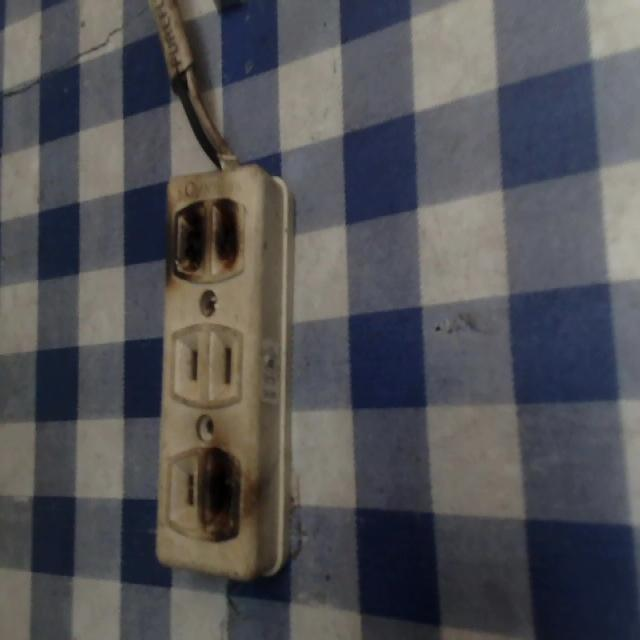-: (160, 192, 251, 293), (193, 442, 259, 554)
